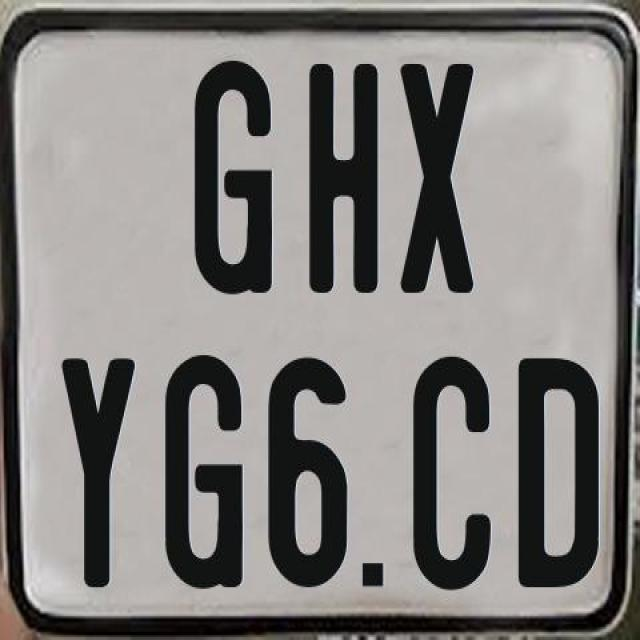6: (264, 355, 344, 592)
C: (412, 357, 496, 592)
D: (517, 356, 604, 590)
G: (164, 354, 248, 590), (192, 56, 271, 290)
H: (308, 60, 376, 298)
X: (398, 61, 481, 300)
Y: (58, 356, 138, 594)
